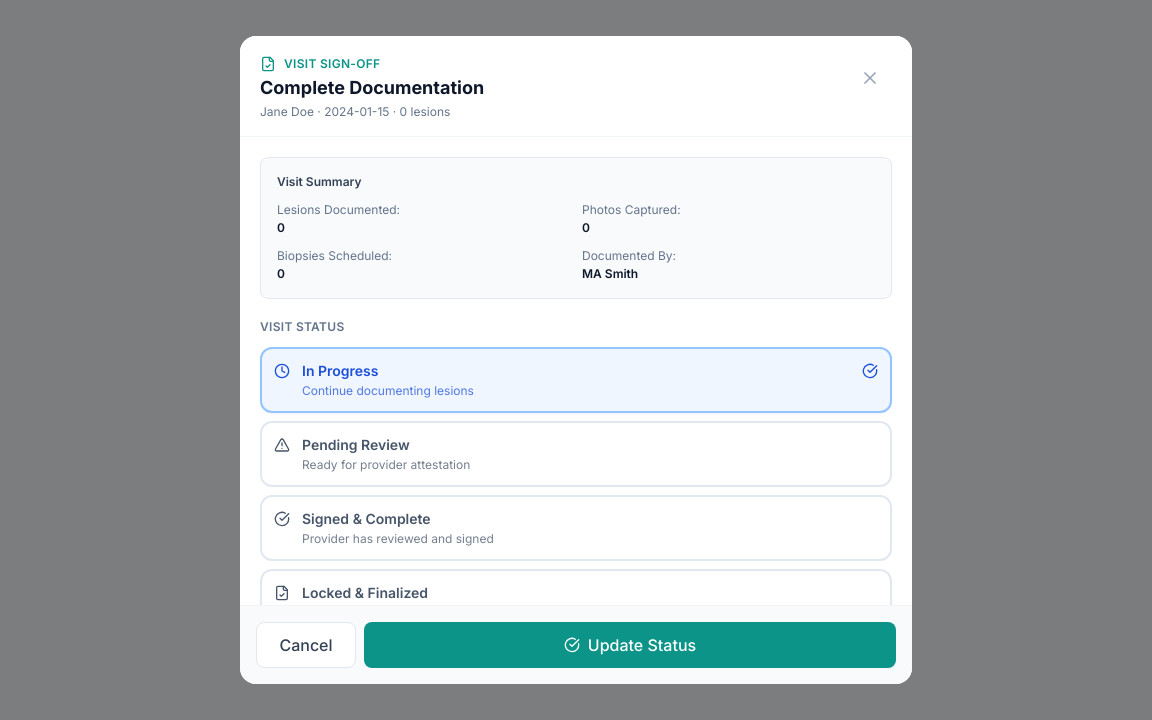
Test case: VisitSignOffModal › requires provider attestation for locked status
Note: Select locked status
Click the button "Locked & Finalized No further edits allowed": (365, 592) [260, 569, 892, 635]
(page scrolled)
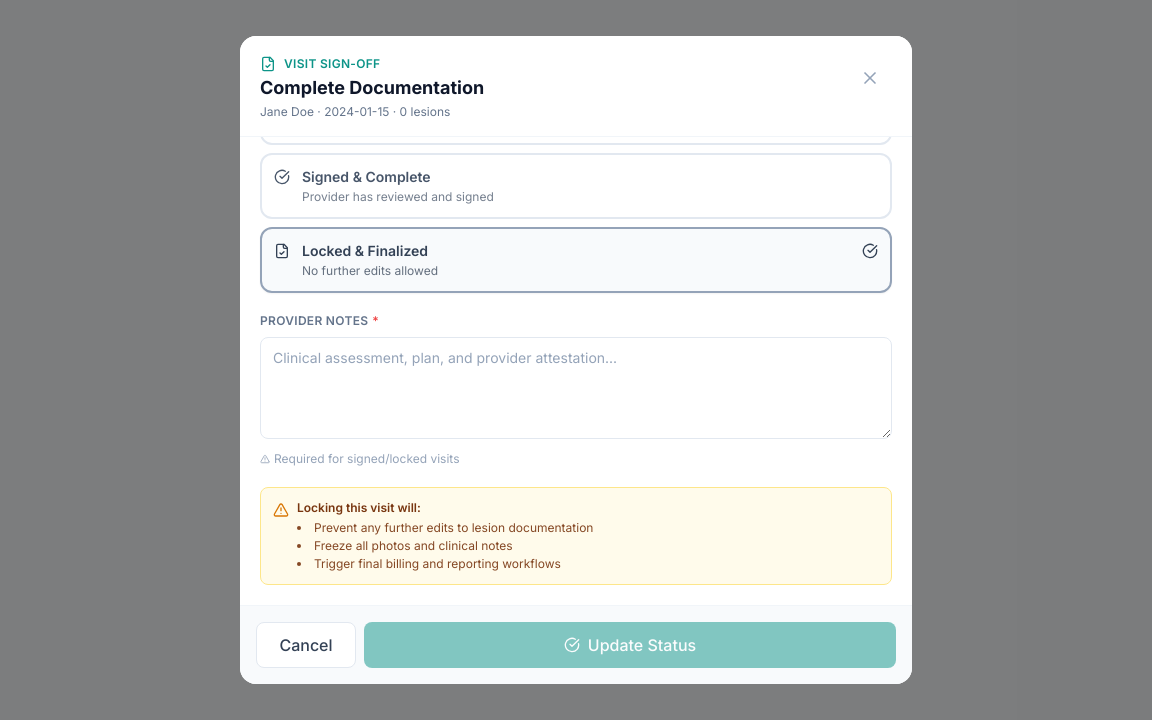
Now the text box with placeholder "Clinical assessment, plan, and provider attestation..." is shown, box [260, 337, 892, 439]
